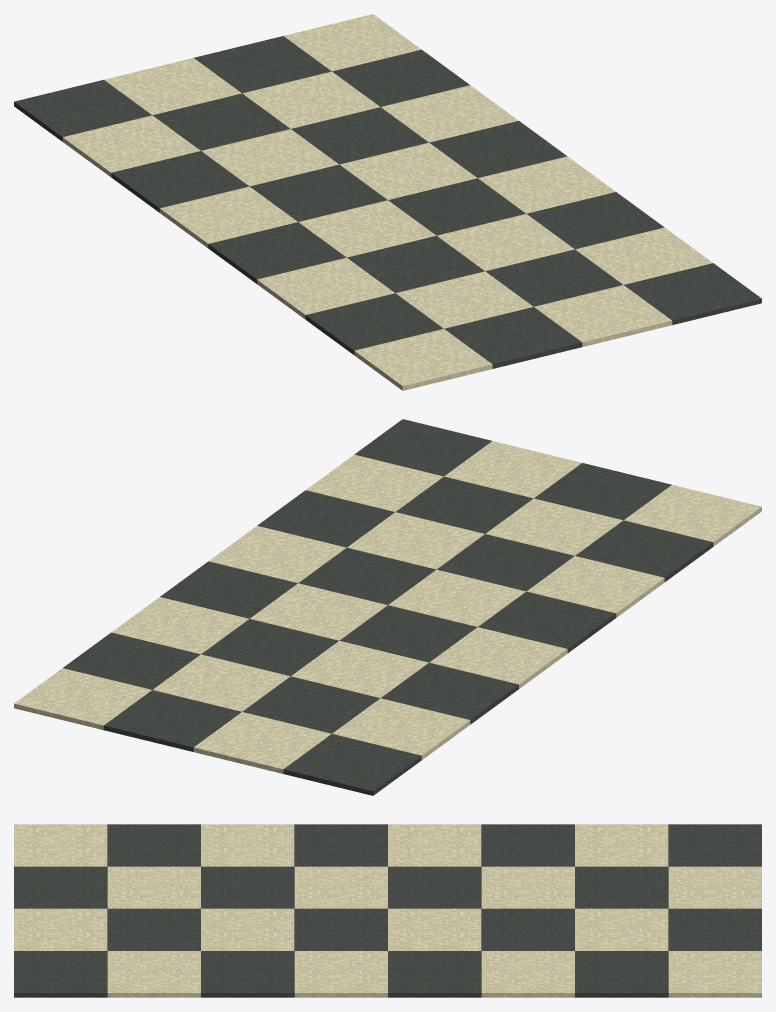
The model's file is alfombra-shaggy-cuadros-verde-80x150.glb.
3 views of the same model, one above another, from view 1: azimuth 30°, elevation 25°; view 2: azimuth 150°, elevation 25°; view 3: azimuth 270°, elevation 25° (orthographic). The views are drawn at different scales.
Parts seen in each view (by area): view 1: alfombra-shaggy-cuadros-verde; view 2: alfombra-shaggy-cuadros-verde; view 3: alfombra-shaggy-cuadros-verde.
Boxes of the visible parts, box(x1,y1,x2,y2) form: alfombra-shaggy-cuadros-verde: box(14, 14, 761, 390); alfombra-shaggy-cuadros-verde: box(14, 419, 761, 795); alfombra-shaggy-cuadros-verde: box(14, 824, 761, 997).
Size of the model in its own units: 0.8 by 0.01 by 1.5.
Materials: 2 (2 with a texture image).
